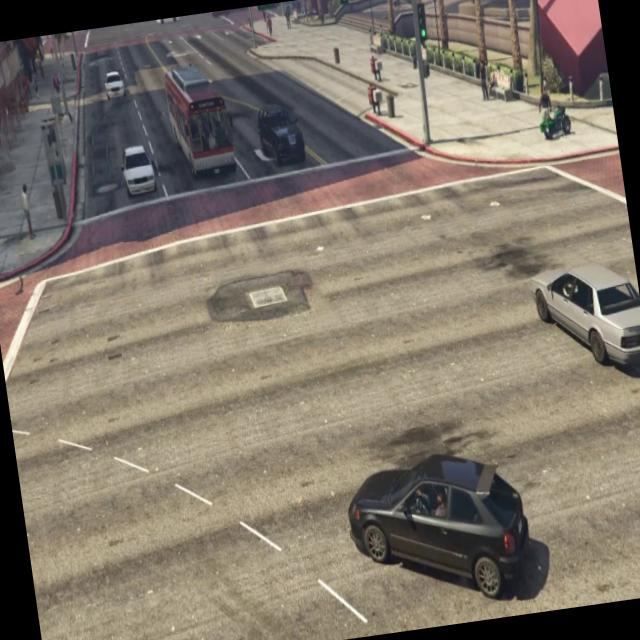Green-Signal: (409, 0, 438, 56), (251, 2, 281, 26), (334, 0, 359, 26)
